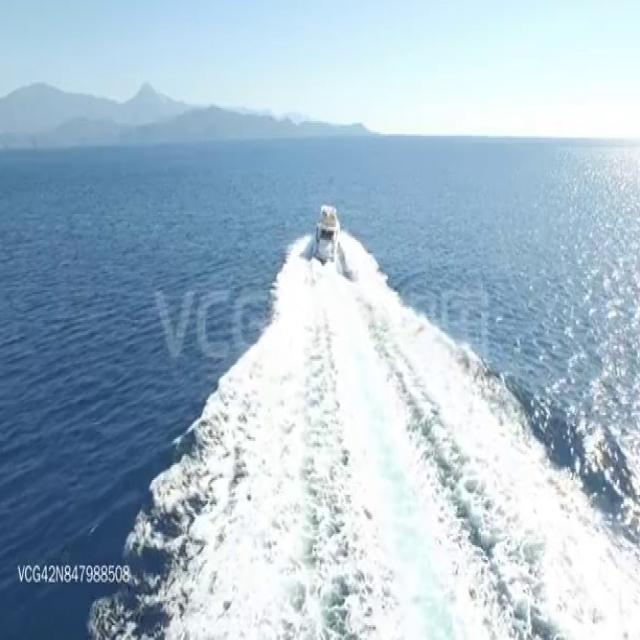houseboat: (313, 198, 341, 264)
